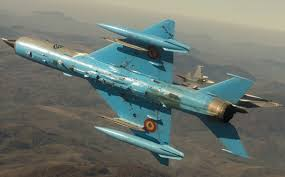fighter: (3, 16, 280, 166)
